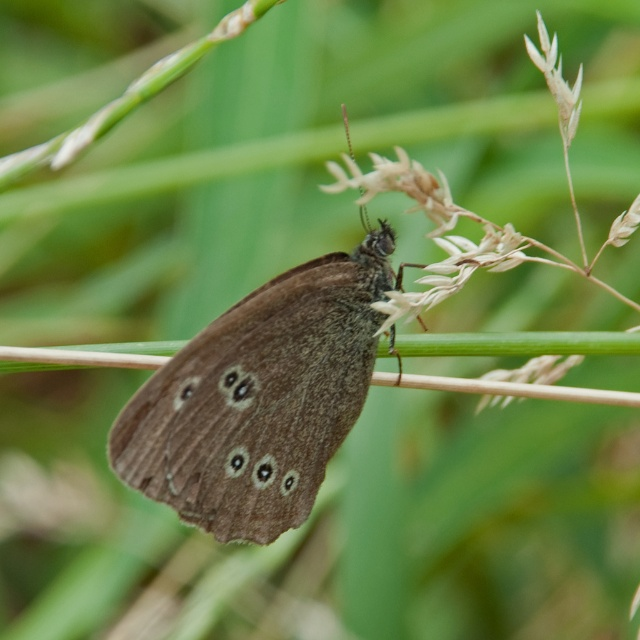Butterfly: (110, 182, 420, 576)
